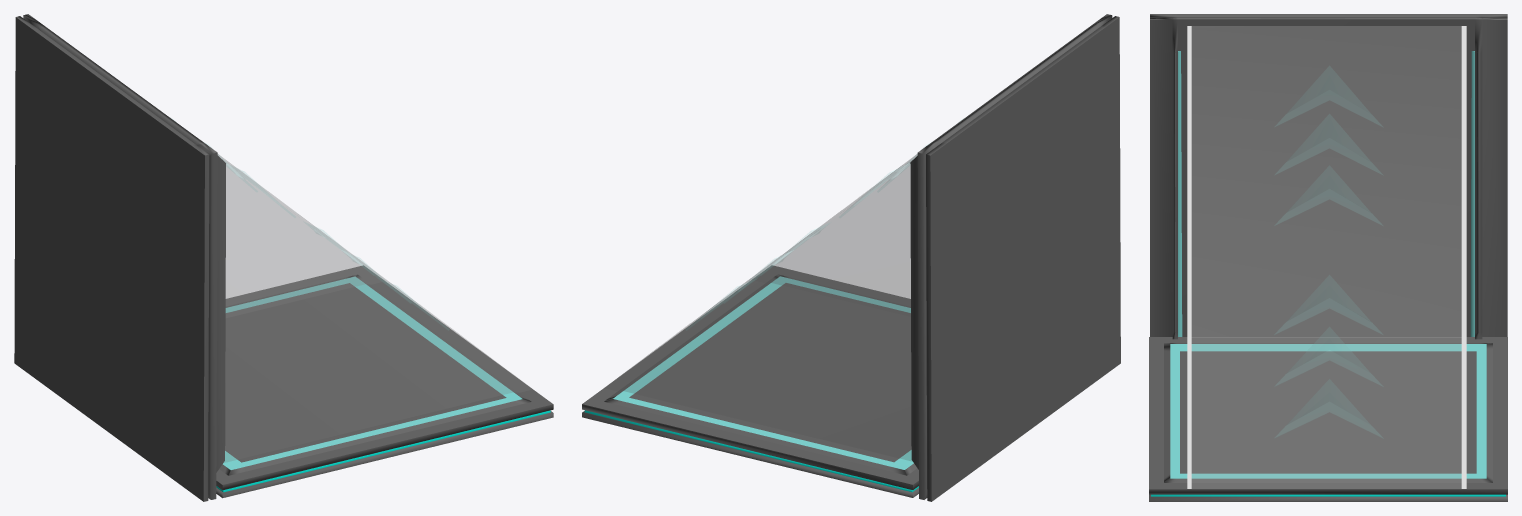
Rendered from STAIR (3).fbx.
The picture shows the model from 3 angles, left to right: view 1: azimuth 30°, elevation 25°; view 2: azimuth 150°, elevation 25°; view 3: azimuth 270°, elevation 25°; orthographic projection. The views are drawn at different scales.
Parts seen in each view (by area): view 1: pasted__pCube6 (×2), pCube13, pCube2, pCube3; view 2: pasted__pCube6 (×2), pCube13, pCube2, pCube3; view 3: pasted__pCube6 (×2), pCube13, pCube2, pCylinder2, pCylinder1, pCube3, pCube16, pCube18, pCube17, pCube15, pCube14.
Part boxes in pixels (left/top/right/bottom): pasted__pCube6 (×2): left=218, top=154, right=532, bottom=475; pCube13: left=14, top=14, right=225, bottom=501; pCube2: left=216, top=265, right=553, bottom=498; pCube3: left=216, top=410, right=550, bottom=492; pasted__pCube6 (×2): left=604, top=154, right=917, bottom=475; pCube13: left=910, top=14, right=1120, bottom=501; pCube2: left=582, top=265, right=918, bottom=497; pCube3: left=584, top=410, right=918, bottom=492; pasted__pCube6 (×2): left=1164, top=26, right=1492, bottom=488; pCube13: left=1150, top=14, right=1507, bottom=339; pCube2: left=1149, top=337, right=1507, bottom=501; pCylinder2: left=1470, top=51, right=1474, bottom=336; pCylinder1: left=1178, top=51, right=1182, bottom=336; pCube3: left=1151, top=494, right=1505, bottom=496; pCube16: left=1301, top=285, right=1370, bottom=321; pCube18: left=1299, top=392, right=1370, bottom=425; pCube17: left=1304, top=338, right=1371, bottom=374; pCube15: left=1306, top=175, right=1369, bottom=212; pCube14: left=1311, top=117, right=1369, bottom=161.
Size of the model in its own units: 10.56 by 10.01 by 9.94.
